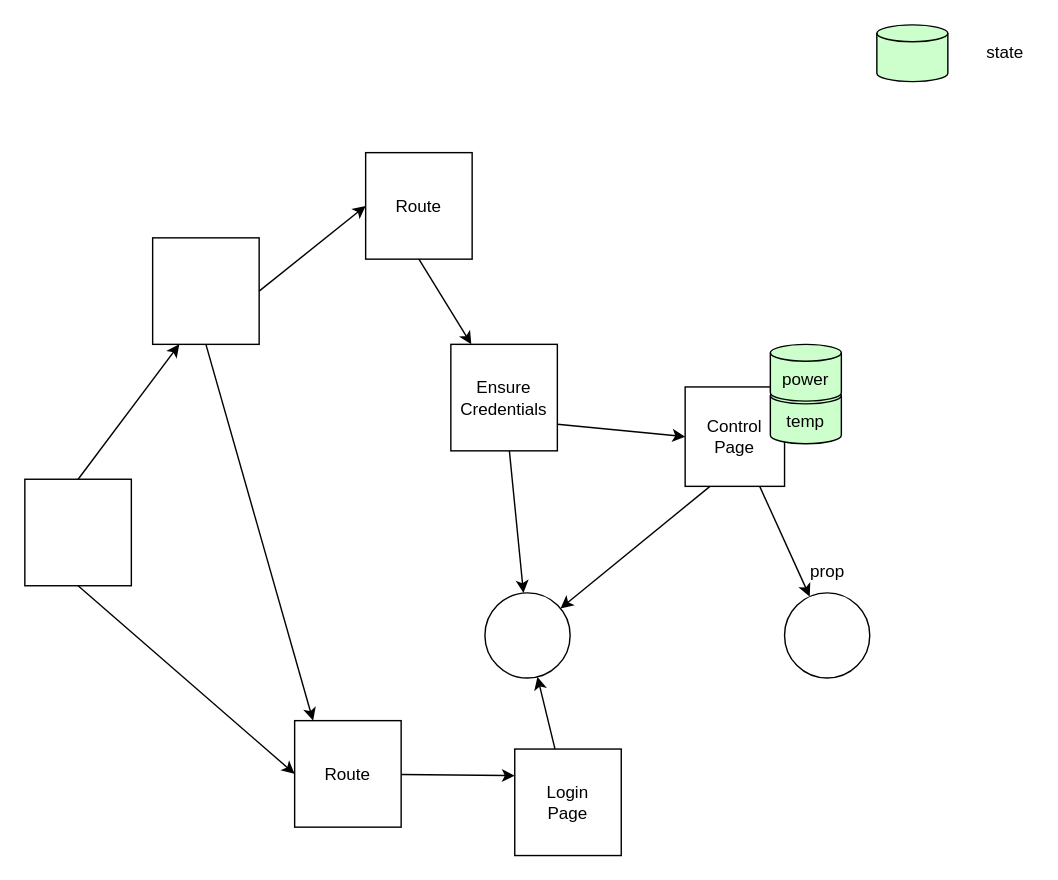
Image size: 1058x880. Some labels were removed from this diagram. The centre of each missing label's shape, as x and y in pixels:
"App / UserSession Context Provider" belongs at [77,532].
"Hvac Service" belongs at [826,634].
"Page Router" belongs at [205,290].
"User Session Context" belongs at [527,634].
